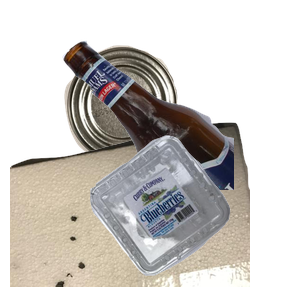glass: (60, 38, 300, 218)
metal: (62, 43, 232, 198)
plastic: (88, 133, 300, 300)
trash: (10, 120, 250, 300)
